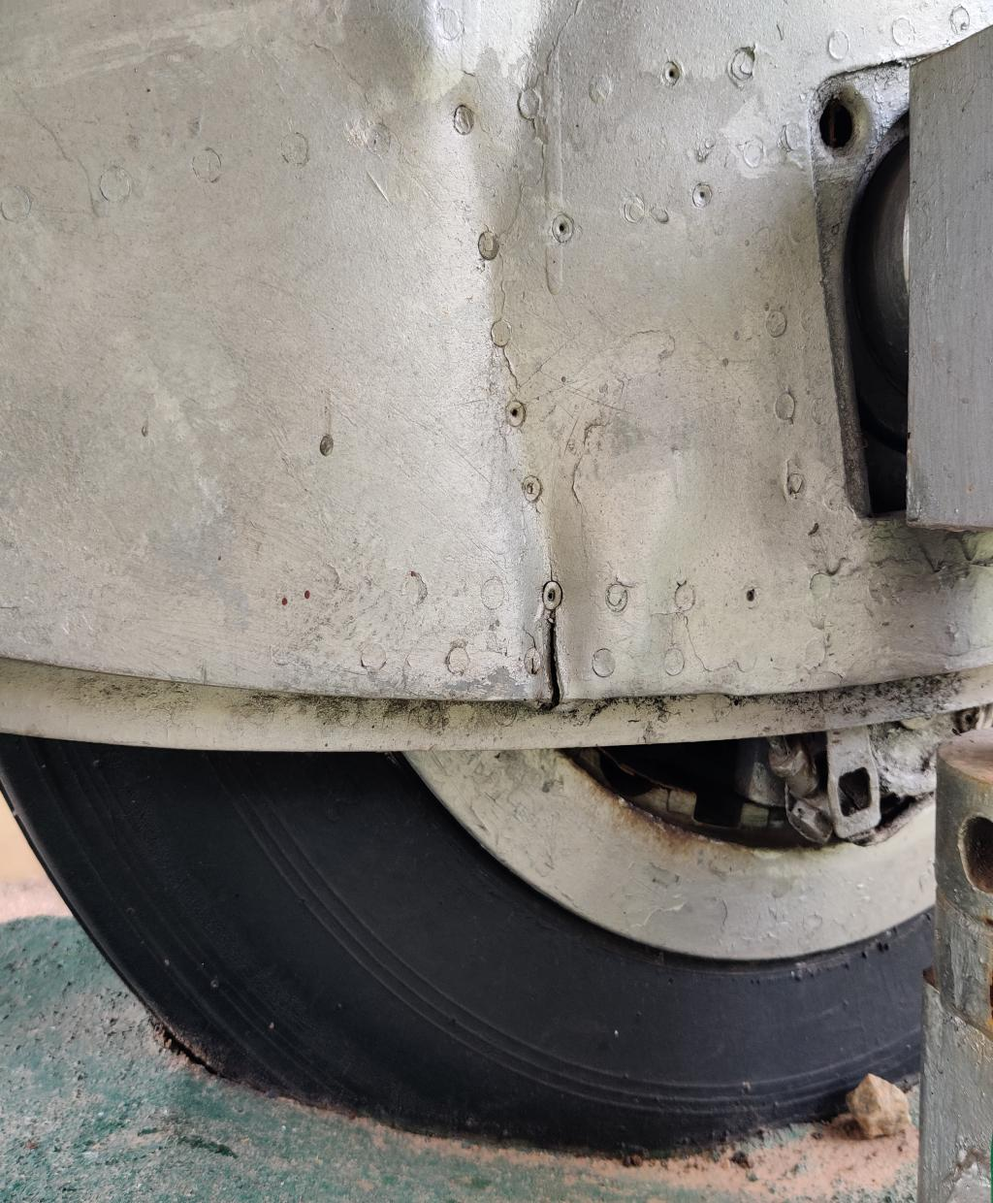crack: (523, 593, 599, 714)
